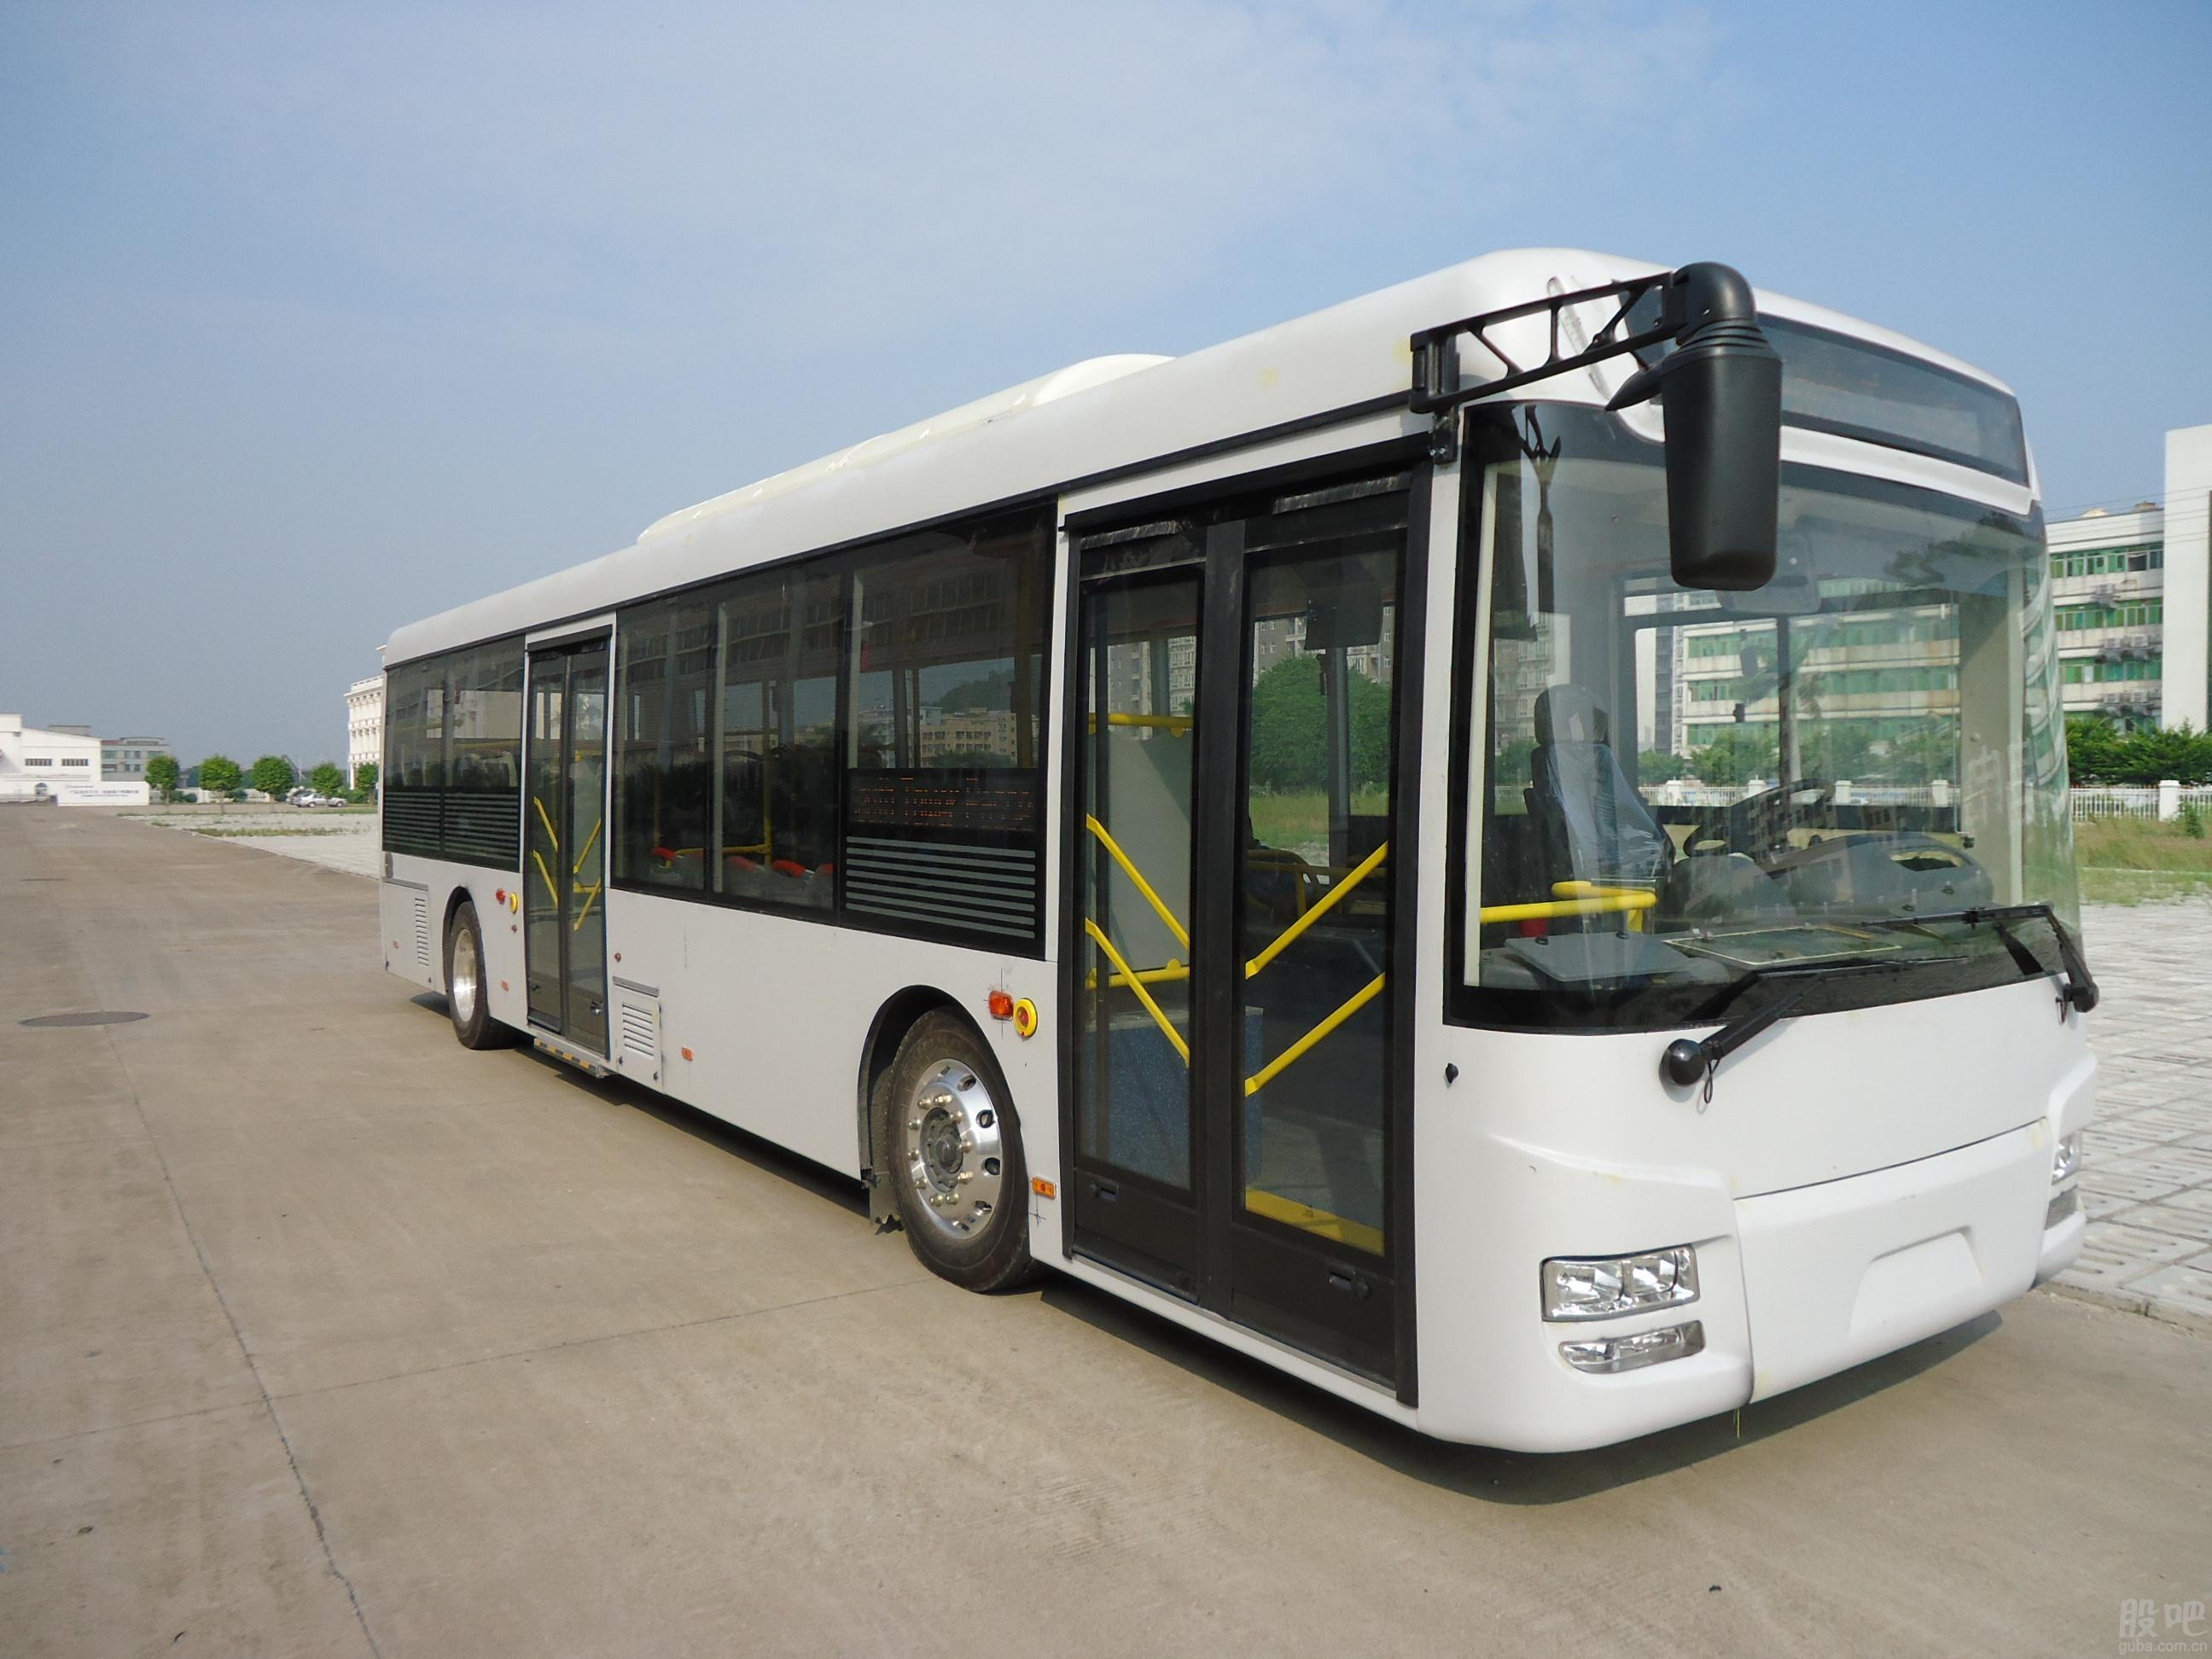bus: (369, 267, 2106, 1462)
